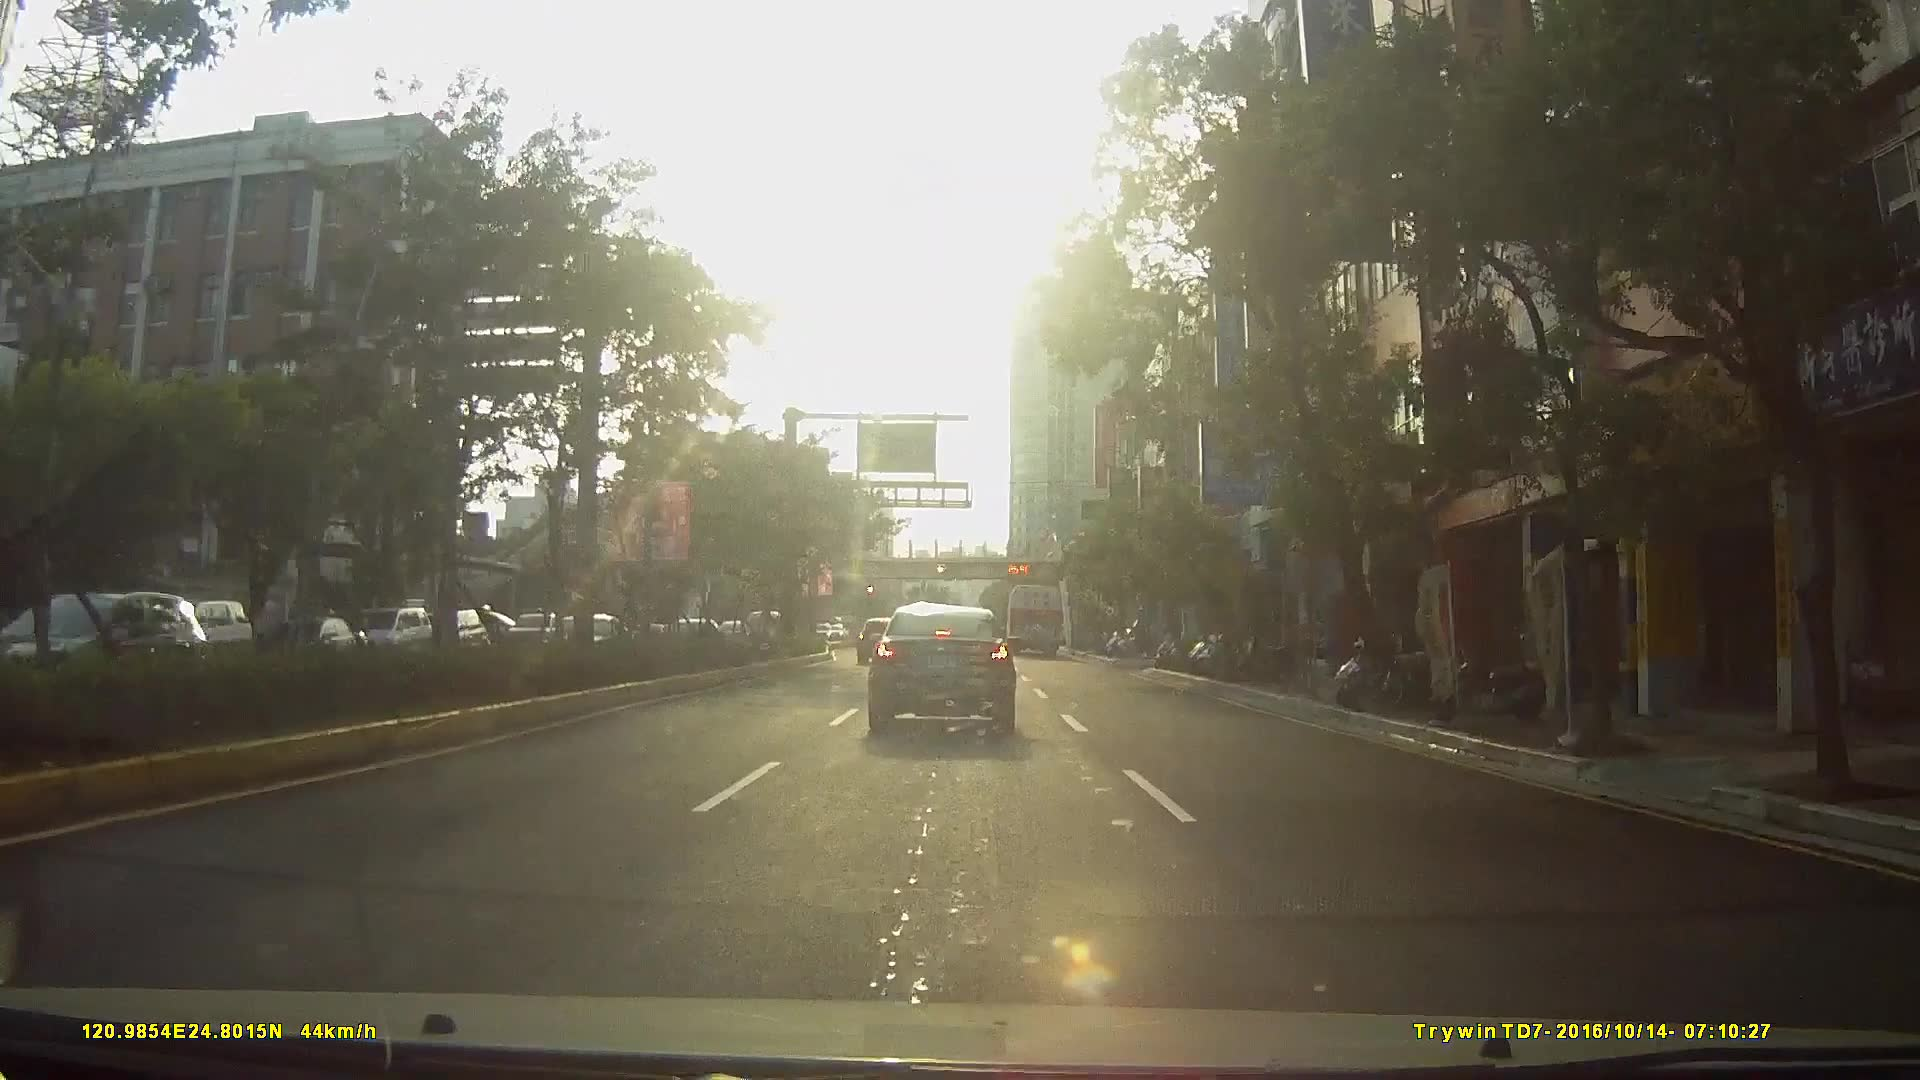vehicle: (1, 591, 232, 716), (862, 603, 1015, 735), (128, 597, 245, 671), (1004, 580, 1065, 654), (353, 607, 433, 655), (415, 607, 485, 658), (501, 611, 562, 649), (856, 616, 899, 665)
